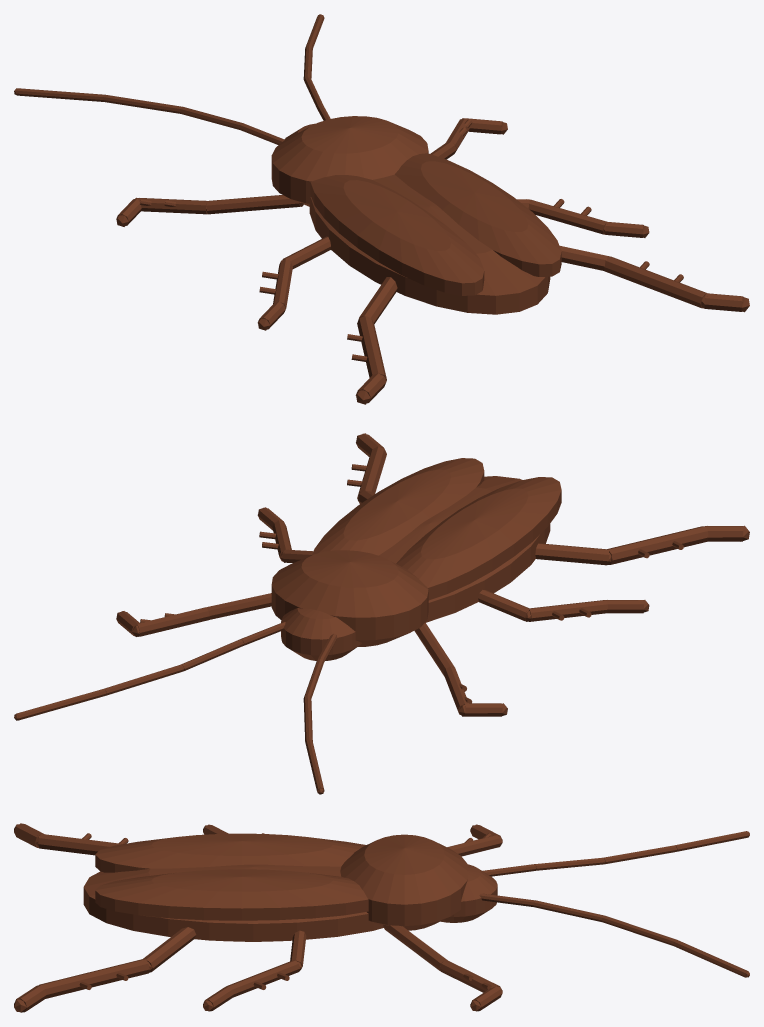
Rendered from NEW_RECOVERY_064_LOD0.glb.
The picture shows the model from 3 angles, top to bottom: view 1: azimuth 30°, elevation 25°; view 2: azimuth 150°, elevation 25°; view 3: azimuth 270°, elevation 25°; orthographic projection. The views are drawn at different scales.
Parts seen in each view (by area): view 1: Cockroach; view 2: Cockroach; view 3: Cockroach.
Boxes of the visible parts, bbox=[...] form: Cockroach: bbox=[14, 14, 749, 404]; Cockroach: bbox=[14, 433, 749, 794]; Cockroach: bbox=[14, 823, 749, 1012].
Size of the model in its own units: 2.69 by 0.5349 by 4.62.
